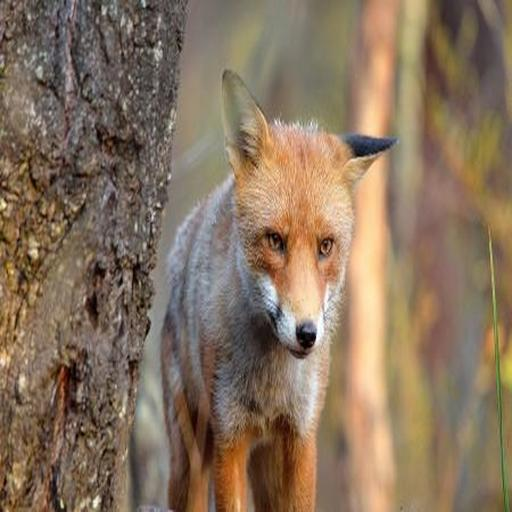Fox: (144, 52, 393, 512)
